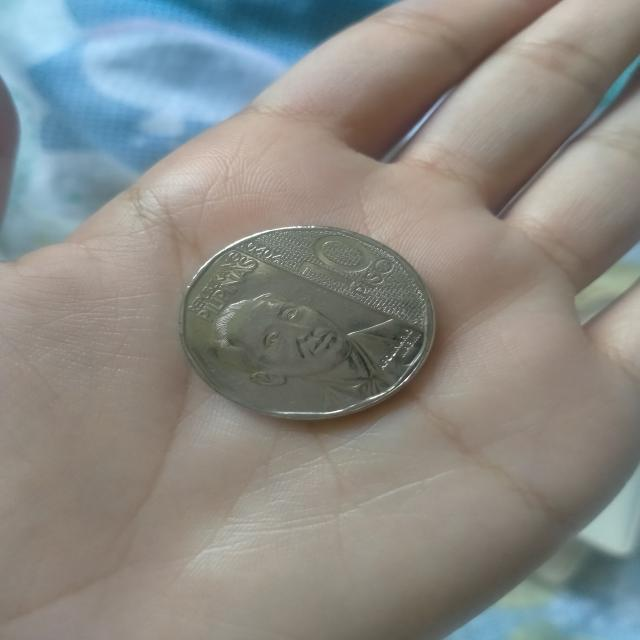10_New_Front: (220, 237, 397, 391)
